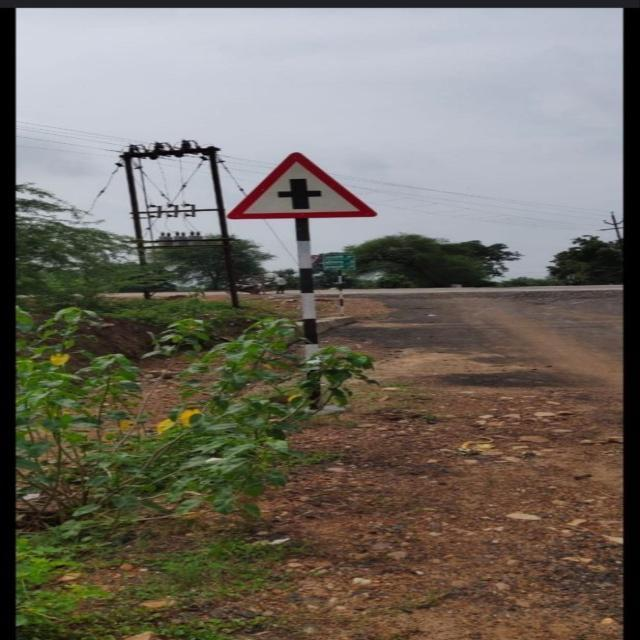cross road: (213, 146, 379, 224)
